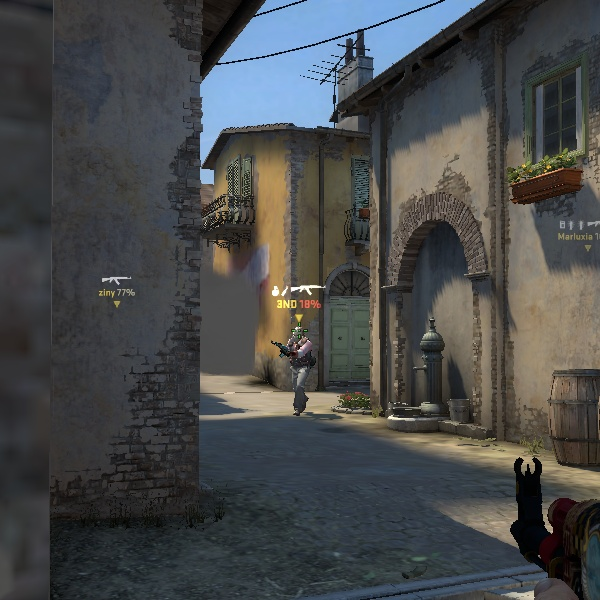t_body: (273, 324, 323, 418)
